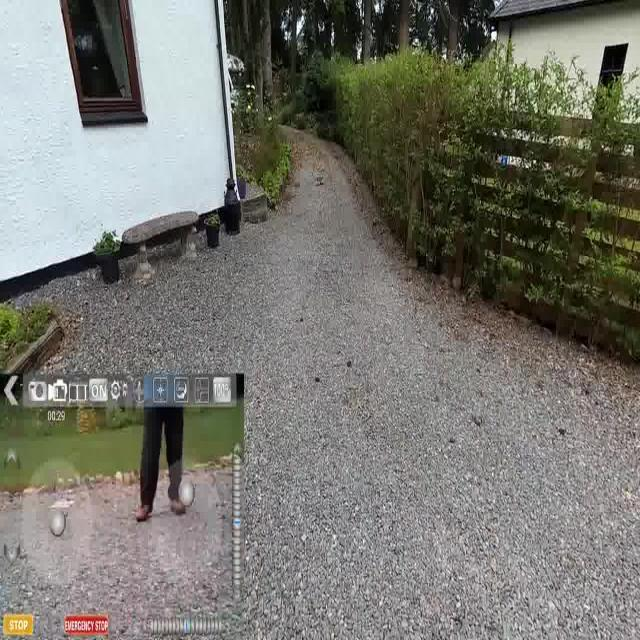drones: (315, 171, 326, 194)
